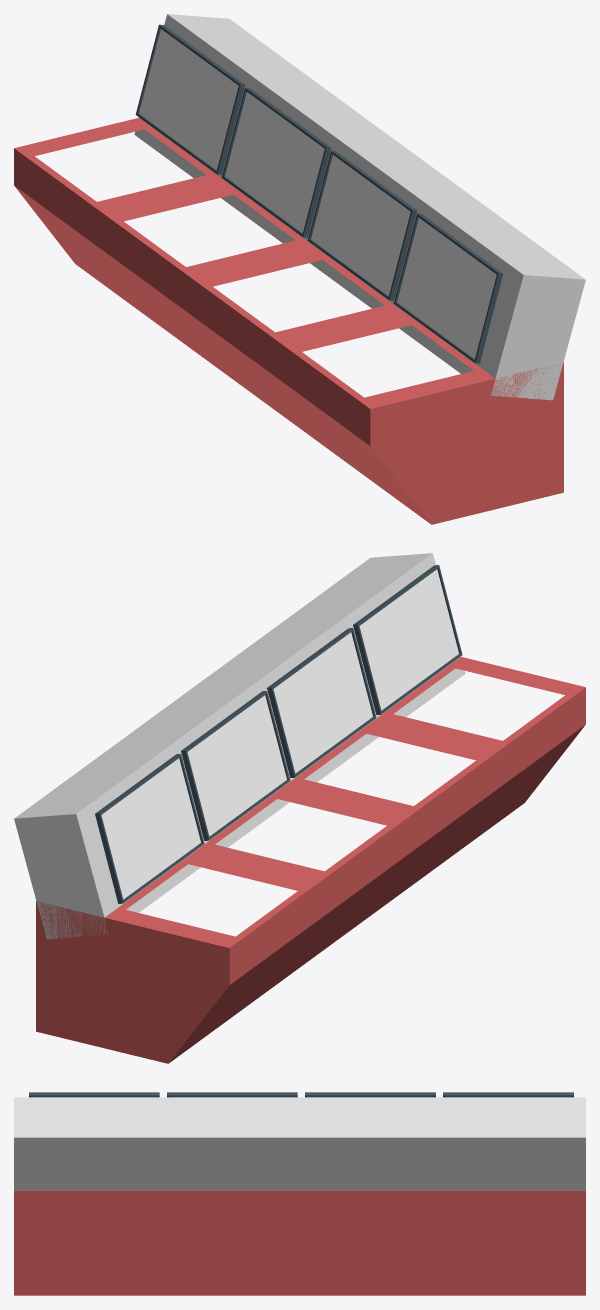
File: moneydroptable.glb
The picture shows the model from 3 angles, top to bottom: view 1: azimuth 30°, elevation 25°; view 2: azimuth 150°, elevation 25°; view 3: azimuth 270°, elevation 25°; orthographic projection. The views are drawn at different scales.
Visible parts, largest first — view 1: Cube, Cube.001, group1454904968.001, group1454904968, group1454904968.003, group1454904968.002; view 2: Cube, Cube.001, group1454904968.003, group1454904968, group1454904968.001, group1454904968.002; view 3: Cube, Cube.001, group1454904968, group1454904968.001, group1454904968.003, group1454904968.002.
Boxes of the visible parts, bbox=[...] form: Cube: bbox=[14, 118, 563, 524]; Cube.001: bbox=[134, 14, 585, 400]; group1454904968.001: bbox=[393, 213, 503, 363]; group1454904968: bbox=[135, 24, 244, 174]; group1454904968.003: bbox=[221, 87, 330, 237]; group1454904968.002: bbox=[307, 150, 416, 300]; Cube: bbox=[36, 657, 585, 1063]; Cube.001: bbox=[14, 553, 465, 939]; group1454904968.003: bbox=[181, 691, 290, 840]; group1454904968: bbox=[95, 754, 204, 903]; group1454904968.001: bbox=[353, 565, 462, 714]; group1454904968.002: bbox=[267, 628, 376, 777]; Cube: bbox=[14, 1190, 585, 1295]; Cube.001: bbox=[14, 1097, 585, 1190]; group1454904968: bbox=[443, 1092, 573, 1097]; group1454904968.001: bbox=[29, 1092, 159, 1097]; group1454904968.003: bbox=[305, 1092, 435, 1097]; group1454904968.002: bbox=[167, 1092, 297, 1097].
Bounding box in the file's own units: 3.92 × 3.96 × 11.24.
